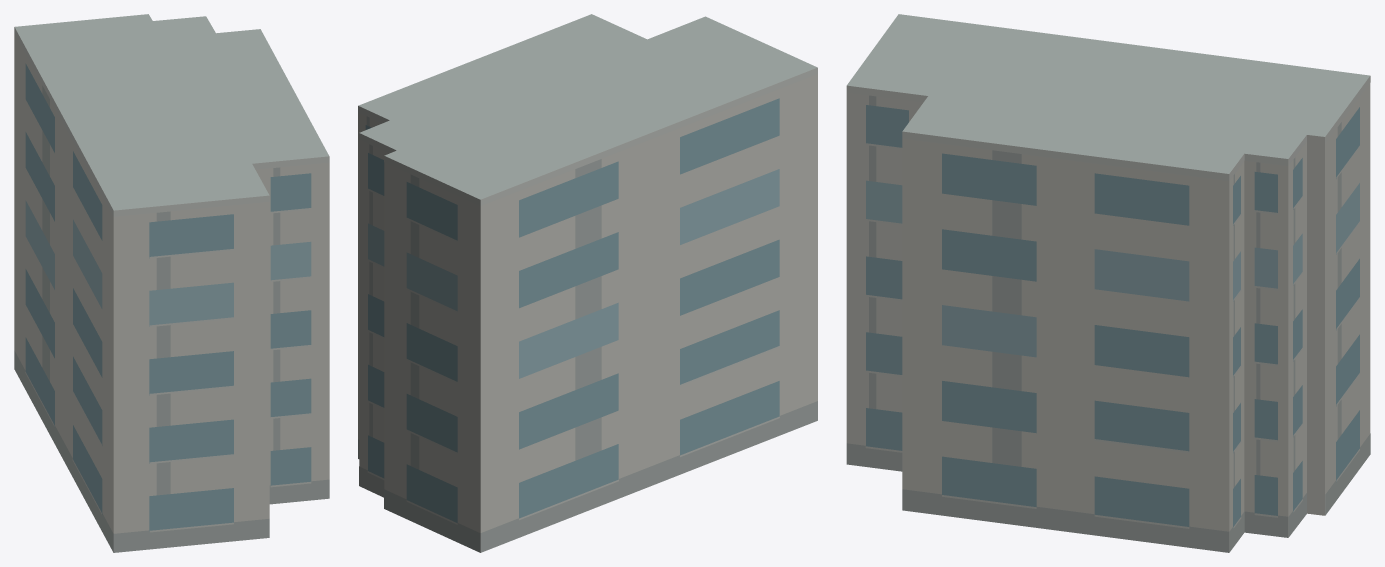
The model's file is survey-upis-32807095.glb.
3 renders of one model, left to right at view 1: azimuth 30°, elevation 25°; view 2: azimuth 150°, elevation 25°; view 3: azimuth 270°, elevation 25°, orthographic. The views are drawn at different scales.
Parts seen in each view (by area): view 1: survey-upis-32807095.tmp; view 2: survey-upis-32807095.tmp; view 3: survey-upis-32807095.tmp.
Part boxes in pixels (bbox=[...]): survey-upis-32807095.tmp: bbox=[14, 14, 329, 552]; survey-upis-32807095.tmp: bbox=[358, 14, 817, 552]; survey-upis-32807095.tmp: bbox=[846, 14, 1370, 552].
Bounding box in the file's own units: 11.88 × 13.1 × 16.43.
